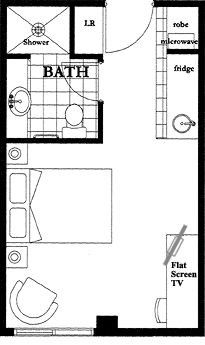door: (99, 2, 157, 59), (55, 60, 106, 101)
room: (3, 2, 205, 334)
wall: (9, 137, 103, 146), (68, 6, 77, 60), (66, 51, 103, 64), (2, 51, 33, 63), (96, 100, 105, 140)
window: (11, 322, 94, 339)
